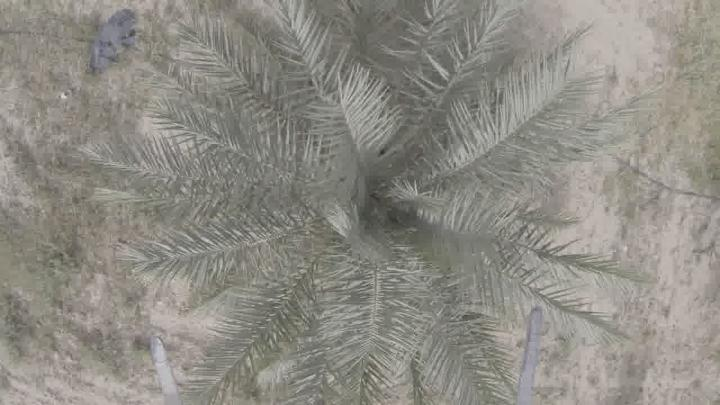Date-Palm-Crown: (230, 70, 498, 336)
